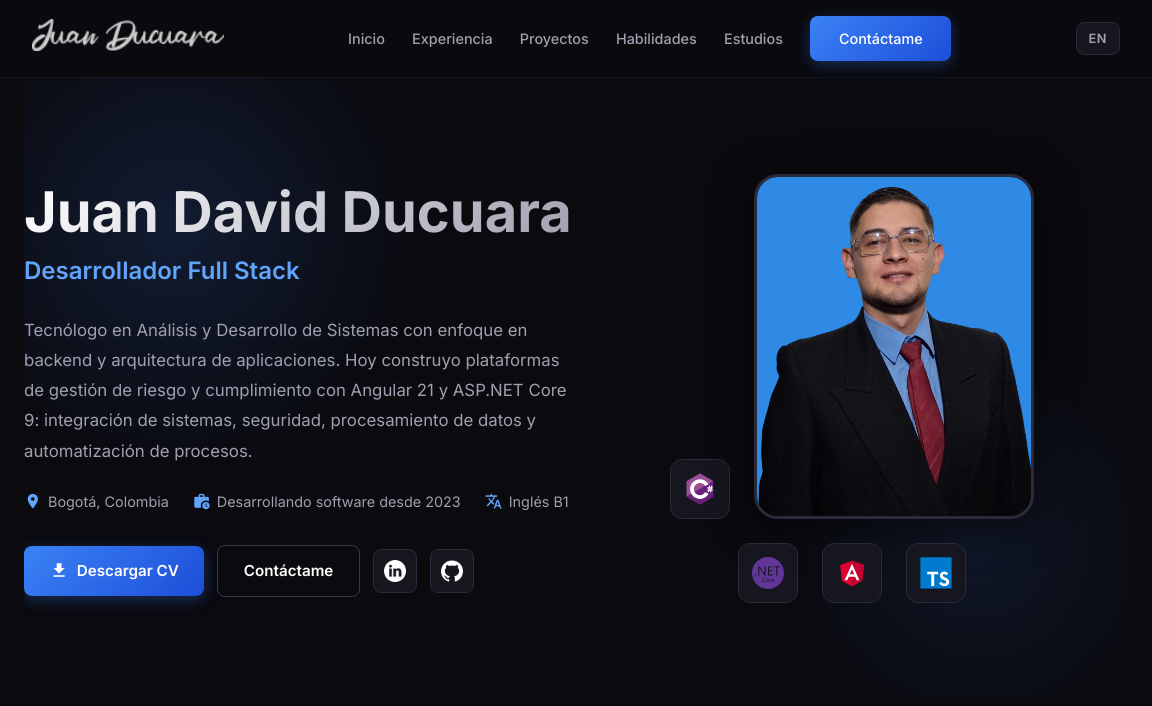
Test case: el botón de idioma cambia el contenido a inglés y lo recuerda
Click the button with aria-label "view in english".
click(1098, 39)  # box [1076, 22, 1120, 55]
(page scrolled)
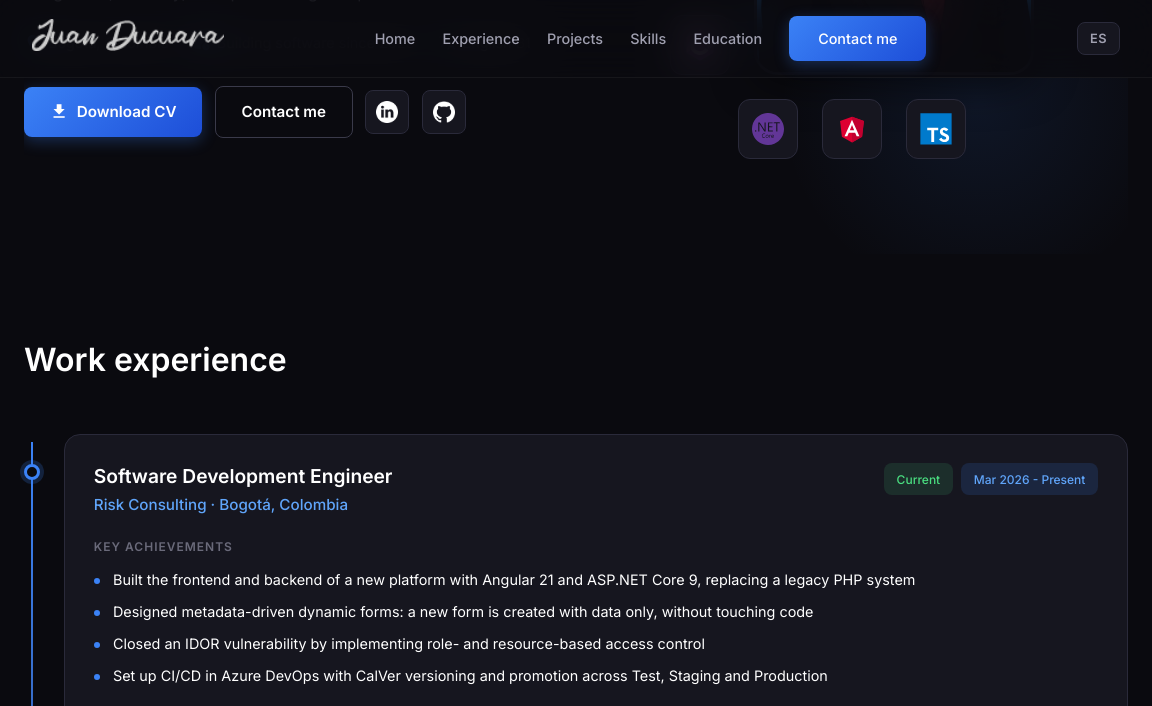
Expected: the heading "Work experience" is shown, [24, 340, 287, 379]
